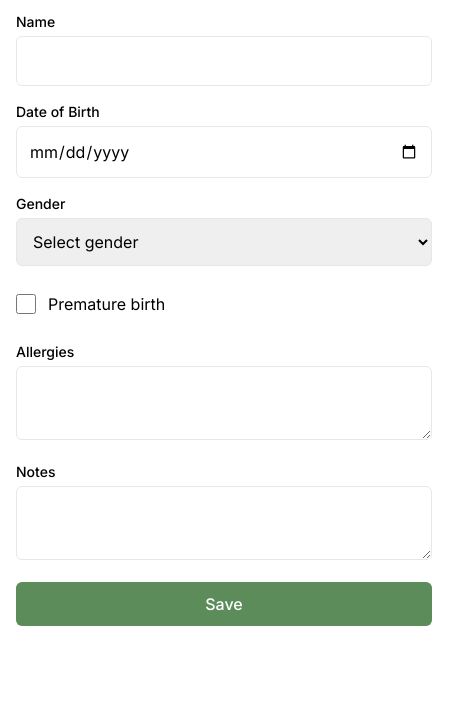
Scenario: ChildForm › should show validation error when name is empty on submit
Click the button "Save".
click(224, 604)  # box [16, 582, 432, 626]
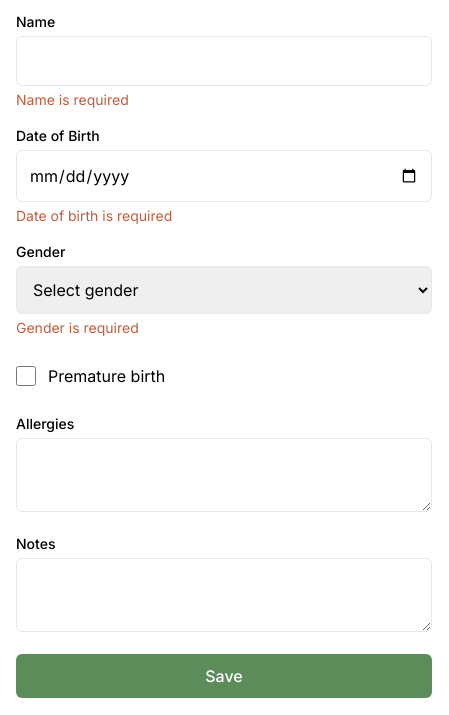
expect the text "Name is required" is shown: met, box [16, 91, 129, 108]
